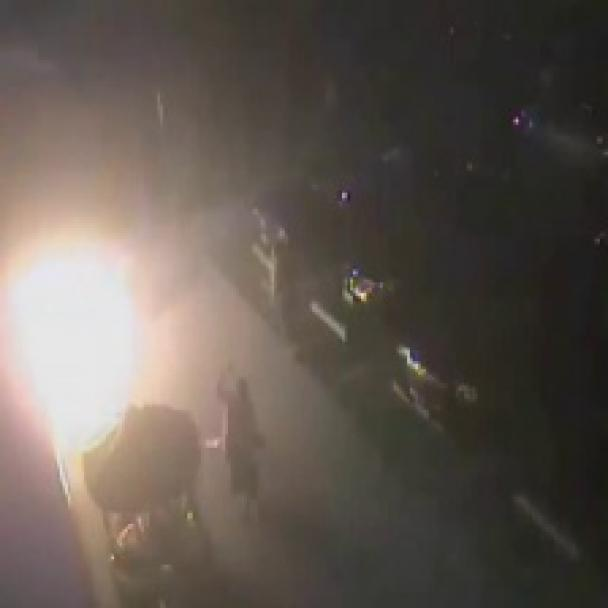Fire: (0, 205, 186, 505)
